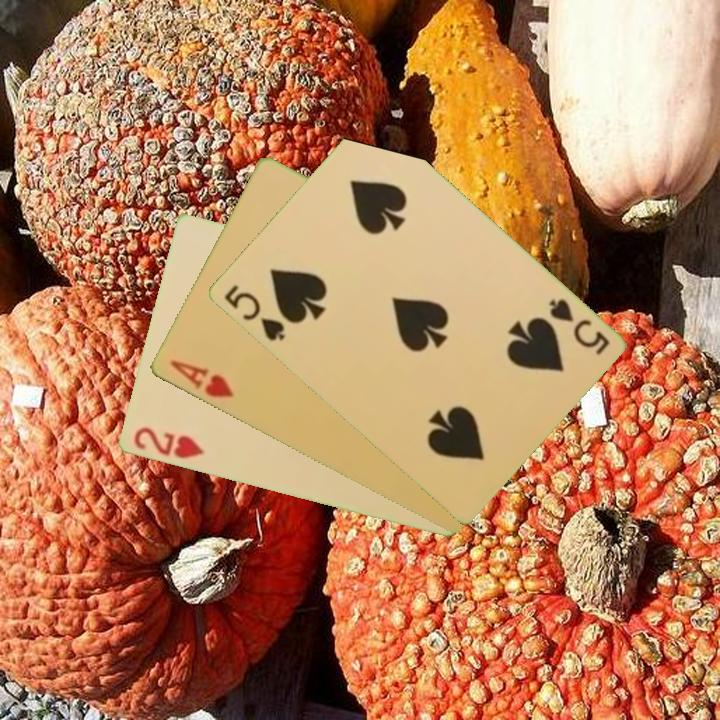2h: (129, 423, 206, 462)
5s: (544, 295, 612, 359), (220, 281, 288, 344)
Ah: (165, 356, 237, 401)
